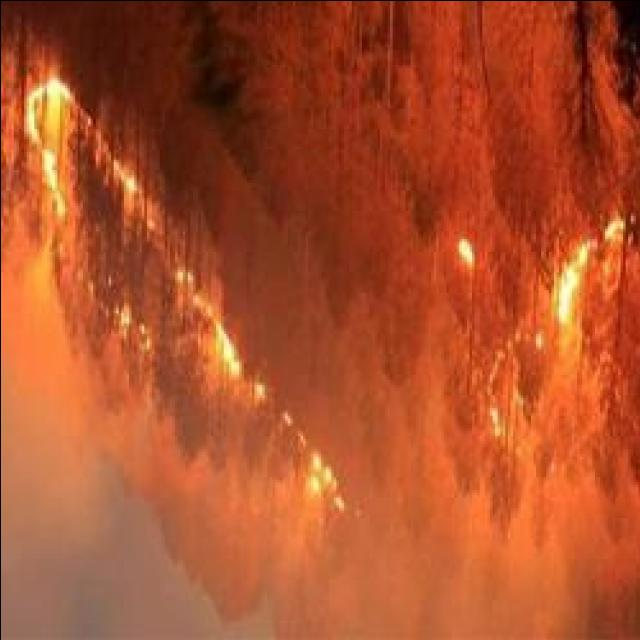fire: (30, 83, 72, 221), (198, 300, 250, 386), (549, 238, 591, 328)
smoke: (238, 3, 335, 232), (2, 353, 87, 595), (100, 370, 201, 510), (512, 556, 570, 640)
